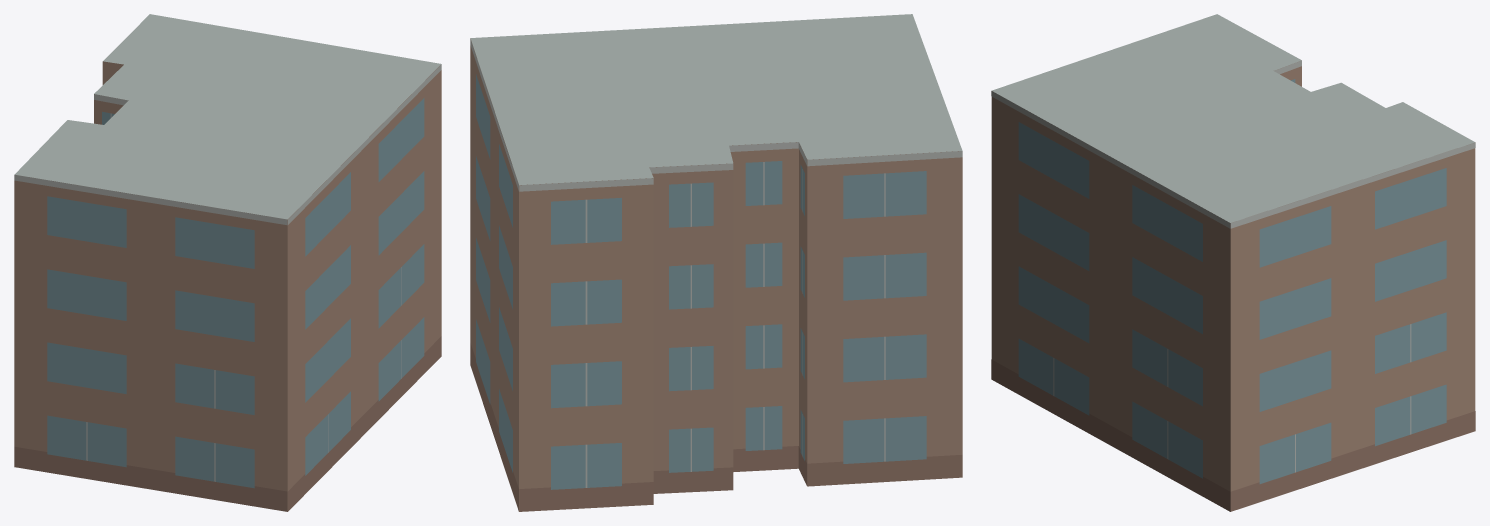
The model's file is survey-upis-32815218.glb.
3 views of the same model, side by side, from view 1: azimuth 30°, elevation 25°; view 2: azimuth 150°, elevation 25°; view 3: azimuth 270°, elevation 25° (orthographic). The views are drawn at different scales.
Parts seen in each view (by area): view 1: survey-upis-32815218.tmp; view 2: survey-upis-32815218.tmp; view 3: survey-upis-32815218.tmp.
Boxes of the visible parts, <box> form: survey-upis-32815218.tmp: <box>14,14,441,511</box>; survey-upis-32815218.tmp: <box>470,14,962,511</box>; survey-upis-32815218.tmp: <box>991,14,1475,511</box>.
Bounding box in the file's own units: 18.99 × 12.23 × 18.58.
